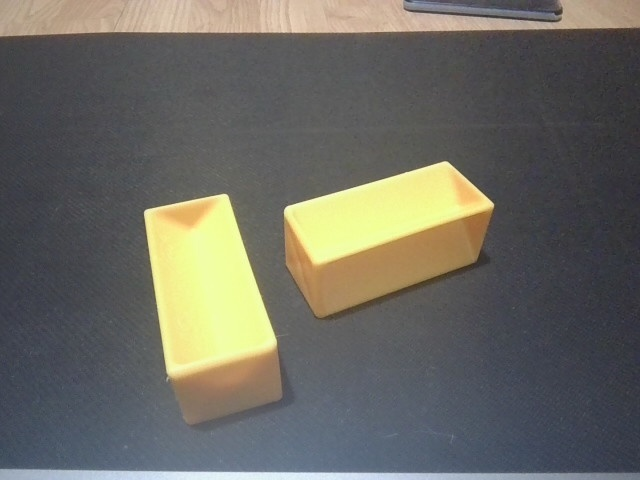YellowSample: (280, 157, 498, 322), (139, 190, 287, 430)
